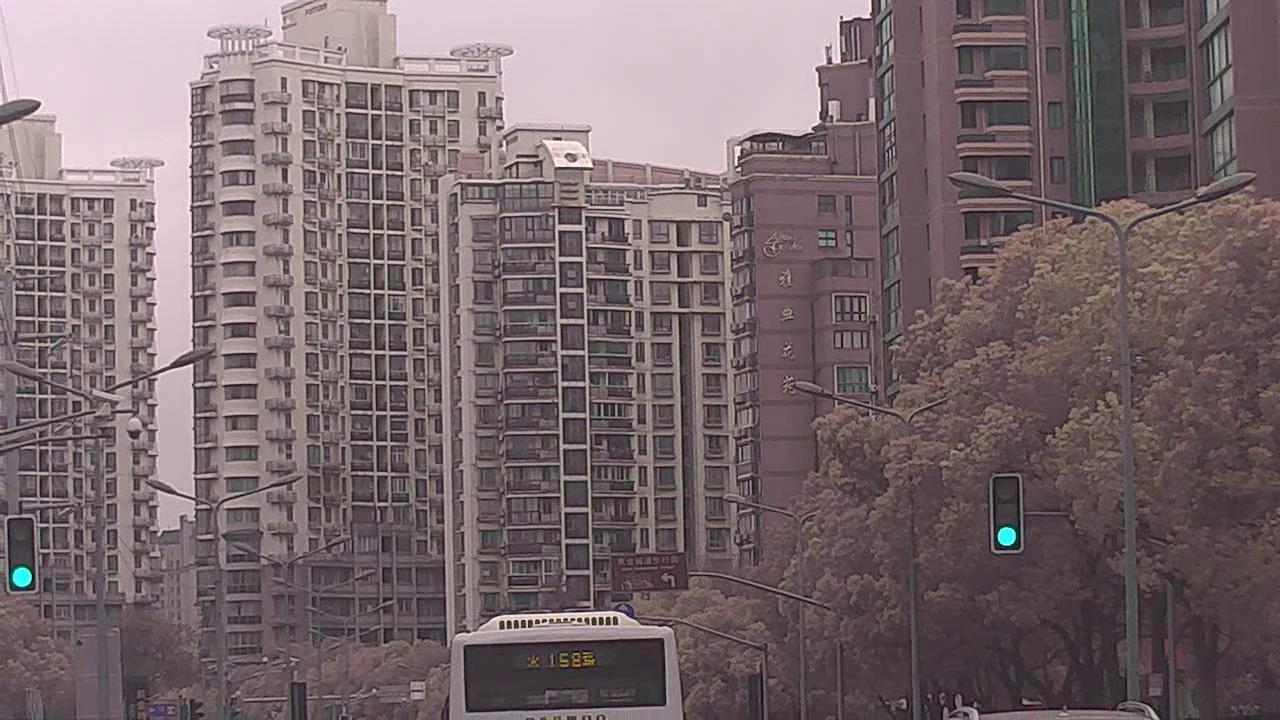traffic_light: (988, 472, 1025, 552), (6, 515, 37, 594)
